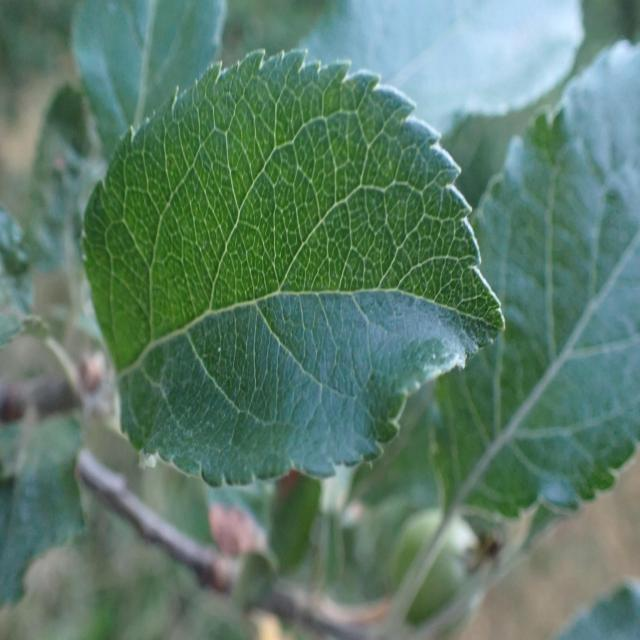healthy: (81, 47, 506, 489), (441, 38, 640, 521), (292, 0, 586, 139), (70, 0, 228, 157)
